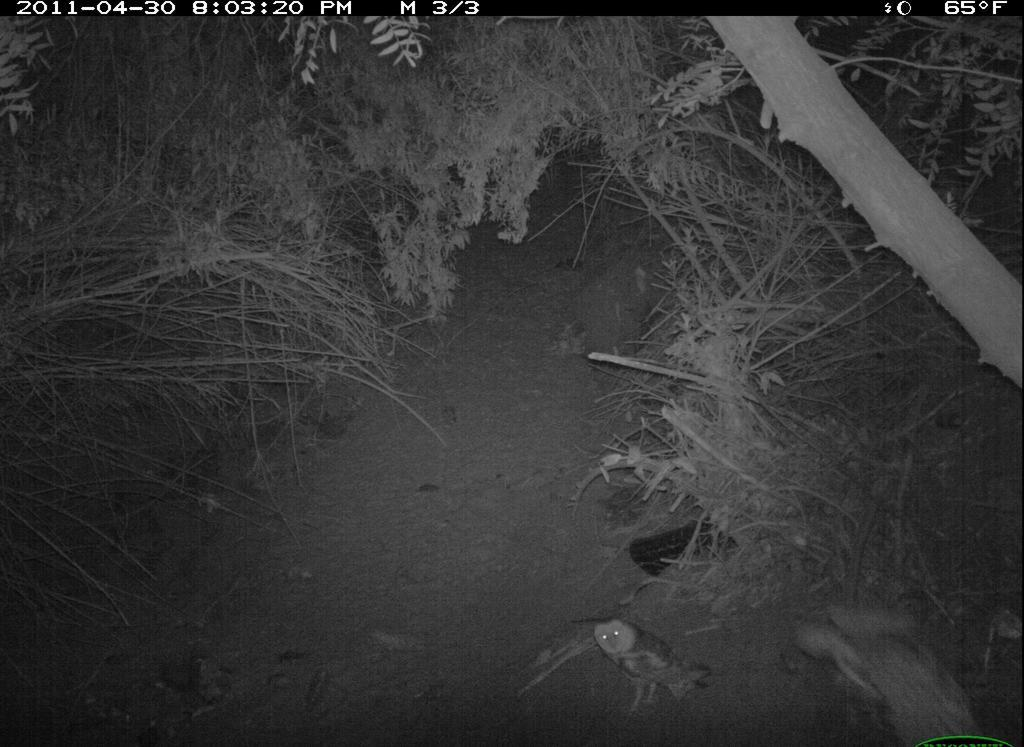bird: (785, 588, 988, 747), (591, 613, 717, 727)
